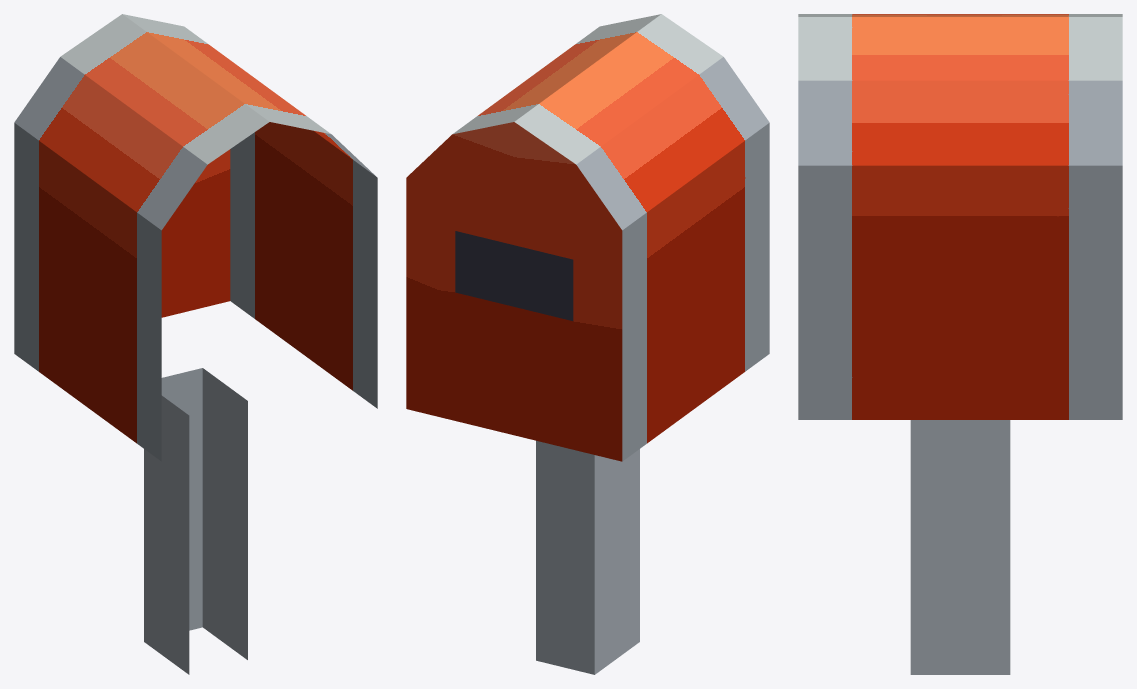
Rendered from mailbox.glb.
The picture shows the model from 3 angles, left to right: view 1: azimuth 30°, elevation 25°; view 2: azimuth 150°, elevation 25°; view 3: azimuth 270°, elevation 25°; orthographic projection. The views are drawn at different scales.
Visible parts, largest first — view 1: mailbox; view 2: mailbox; view 3: mailbox.
Part boxes in pixels (x1,y1,x2,y2): mailbox: (14, 14, 377, 674); mailbox: (406, 14, 769, 674); mailbox: (798, 14, 1122, 674).
Bounding box in the file's own units: 0.6875 × 1.77 × 0.8125.
2 materials, 2 textured.
